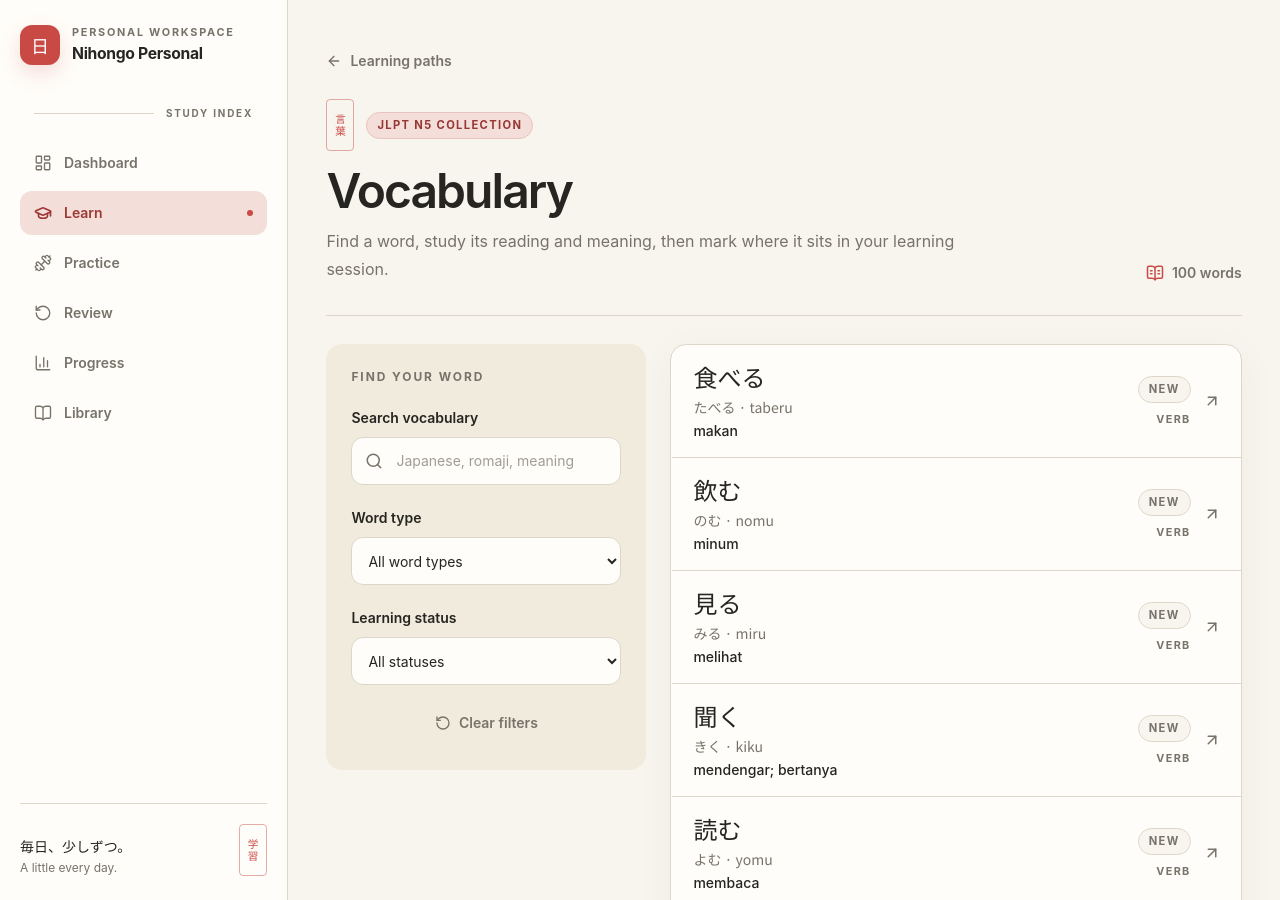
Scenario: Vocabulary learning › recovers from an empty search
The image size is (1280, 900).
In the search field labelled "Search vocabulary": (486, 461) 351,437 -> 621,485, type "tidak-ada"
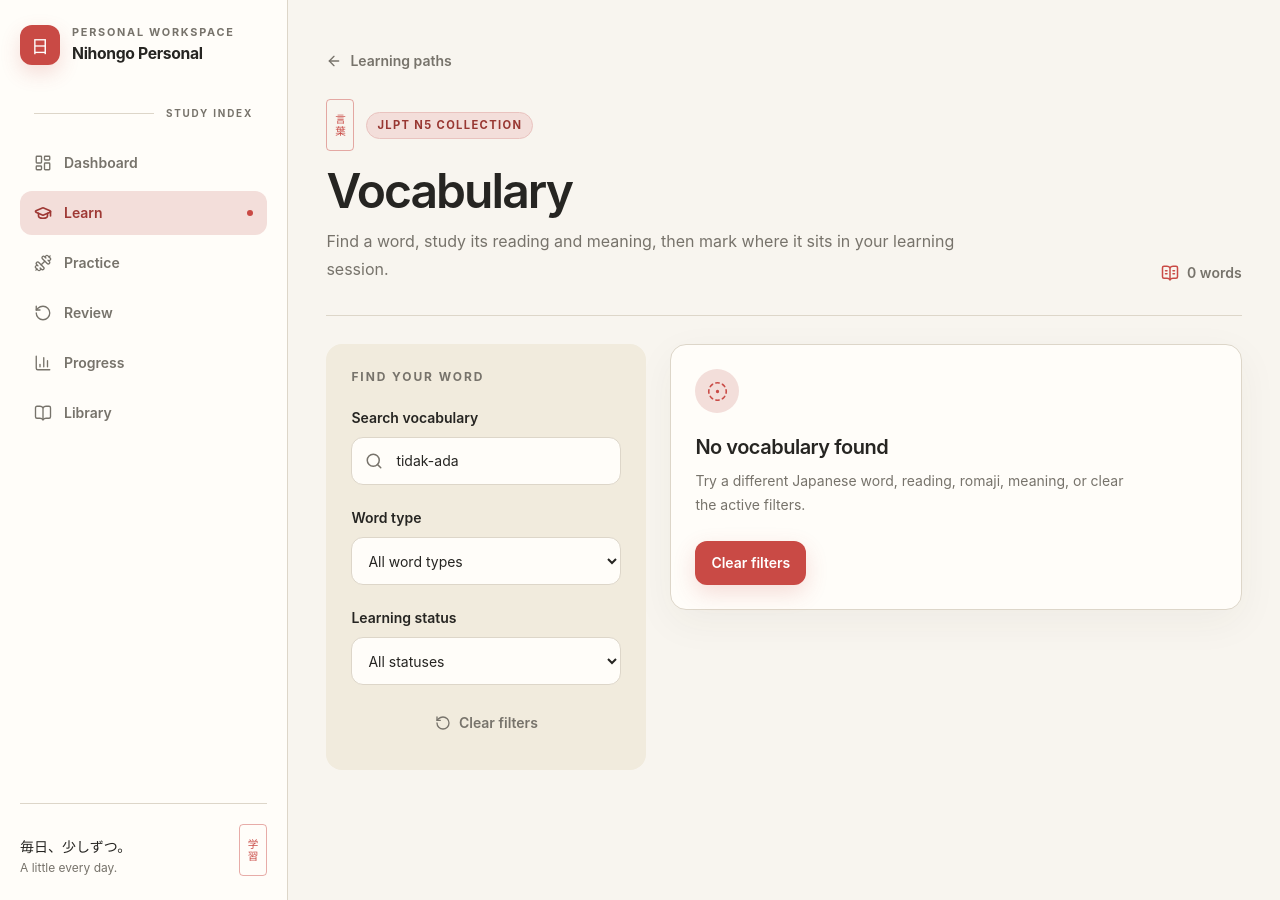
Result: the heading "No vocabulary found" is shown at 695,433 -> 888,461
Click the button "Clear filters" below "No vocabulary found": (751, 563) 695,541 -> 806,585
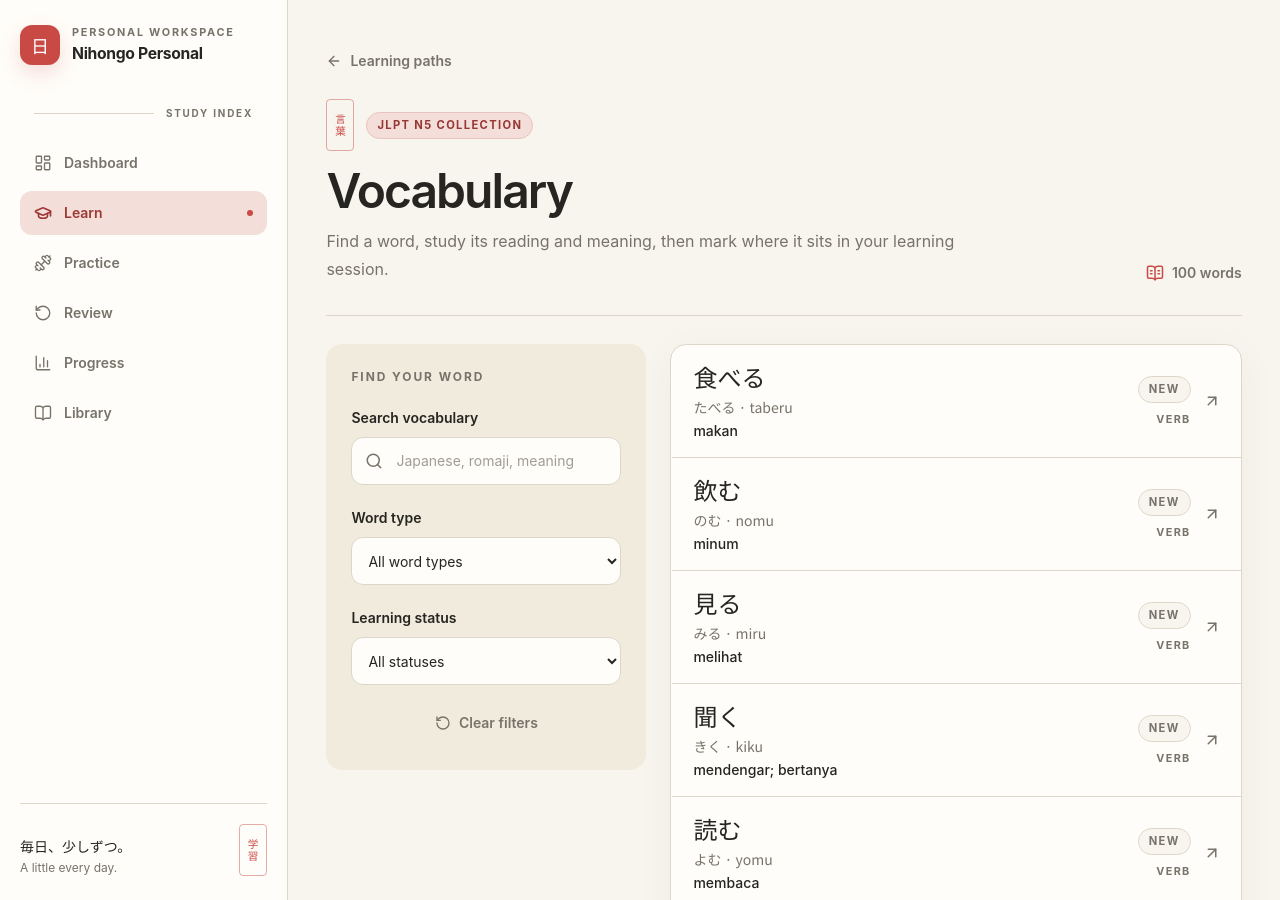
Result: the text "100 words" is shown at 1172,263 -> 1242,283
